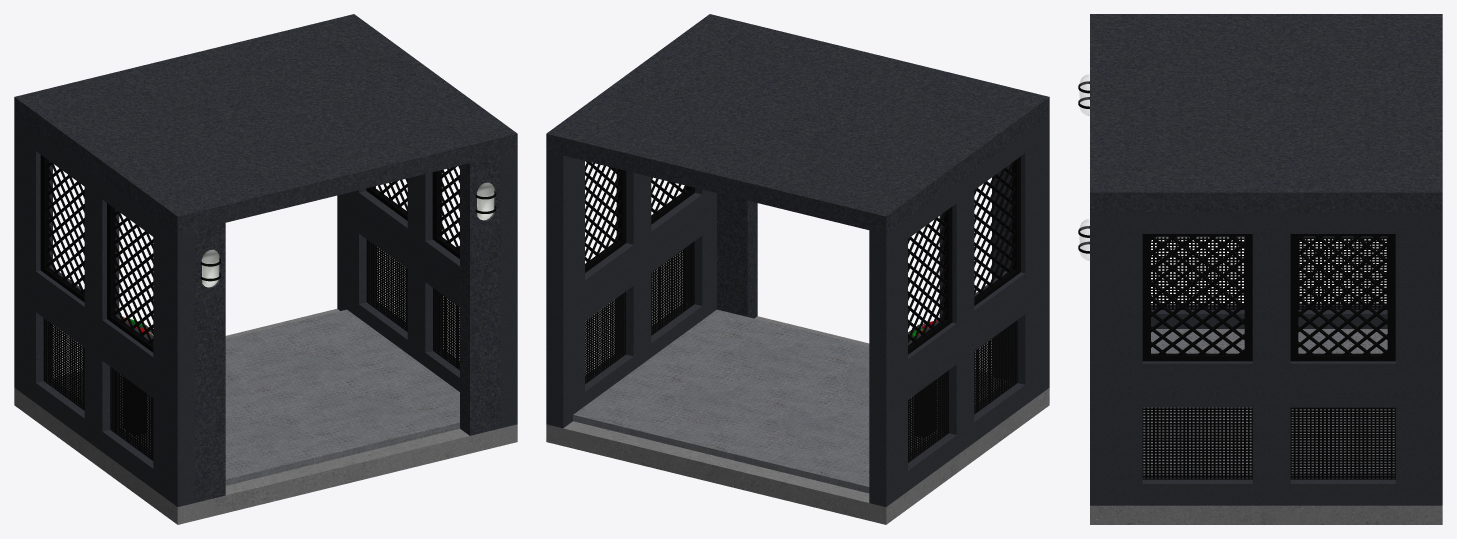
The model's file is ele.fbx.
The picture shows the model from 3 angles, left to right: view 1: azimuth 30°, elevation 25°; view 2: azimuth 150°, elevation 25°; view 3: azimuth 270°, elevation 25°; orthographic projection. The views are drawn at different scales.
Parts seen in each view (by area): view 1: elevador; view 2: elevador; view 3: elevador.
Part boxes in pixels (x1=…): elevador: x1=14, y1=14, x2=517, y2=524; elevador: x1=546, y1=14, x2=1049, y2=524; elevador: x1=1078, y1=14, x2=1442, y2=524.
Bounding box in the file's own units: 651 × 564 × 560.
